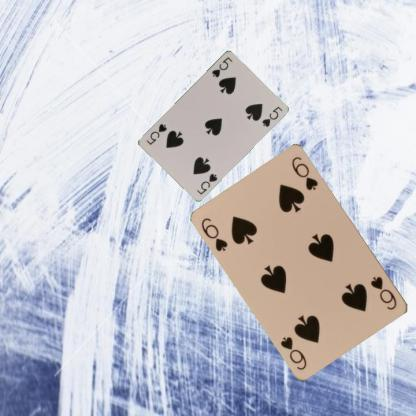5s: (194, 170, 219, 196), (209, 53, 234, 78)
6s: (368, 274, 399, 312), (199, 215, 230, 253)
